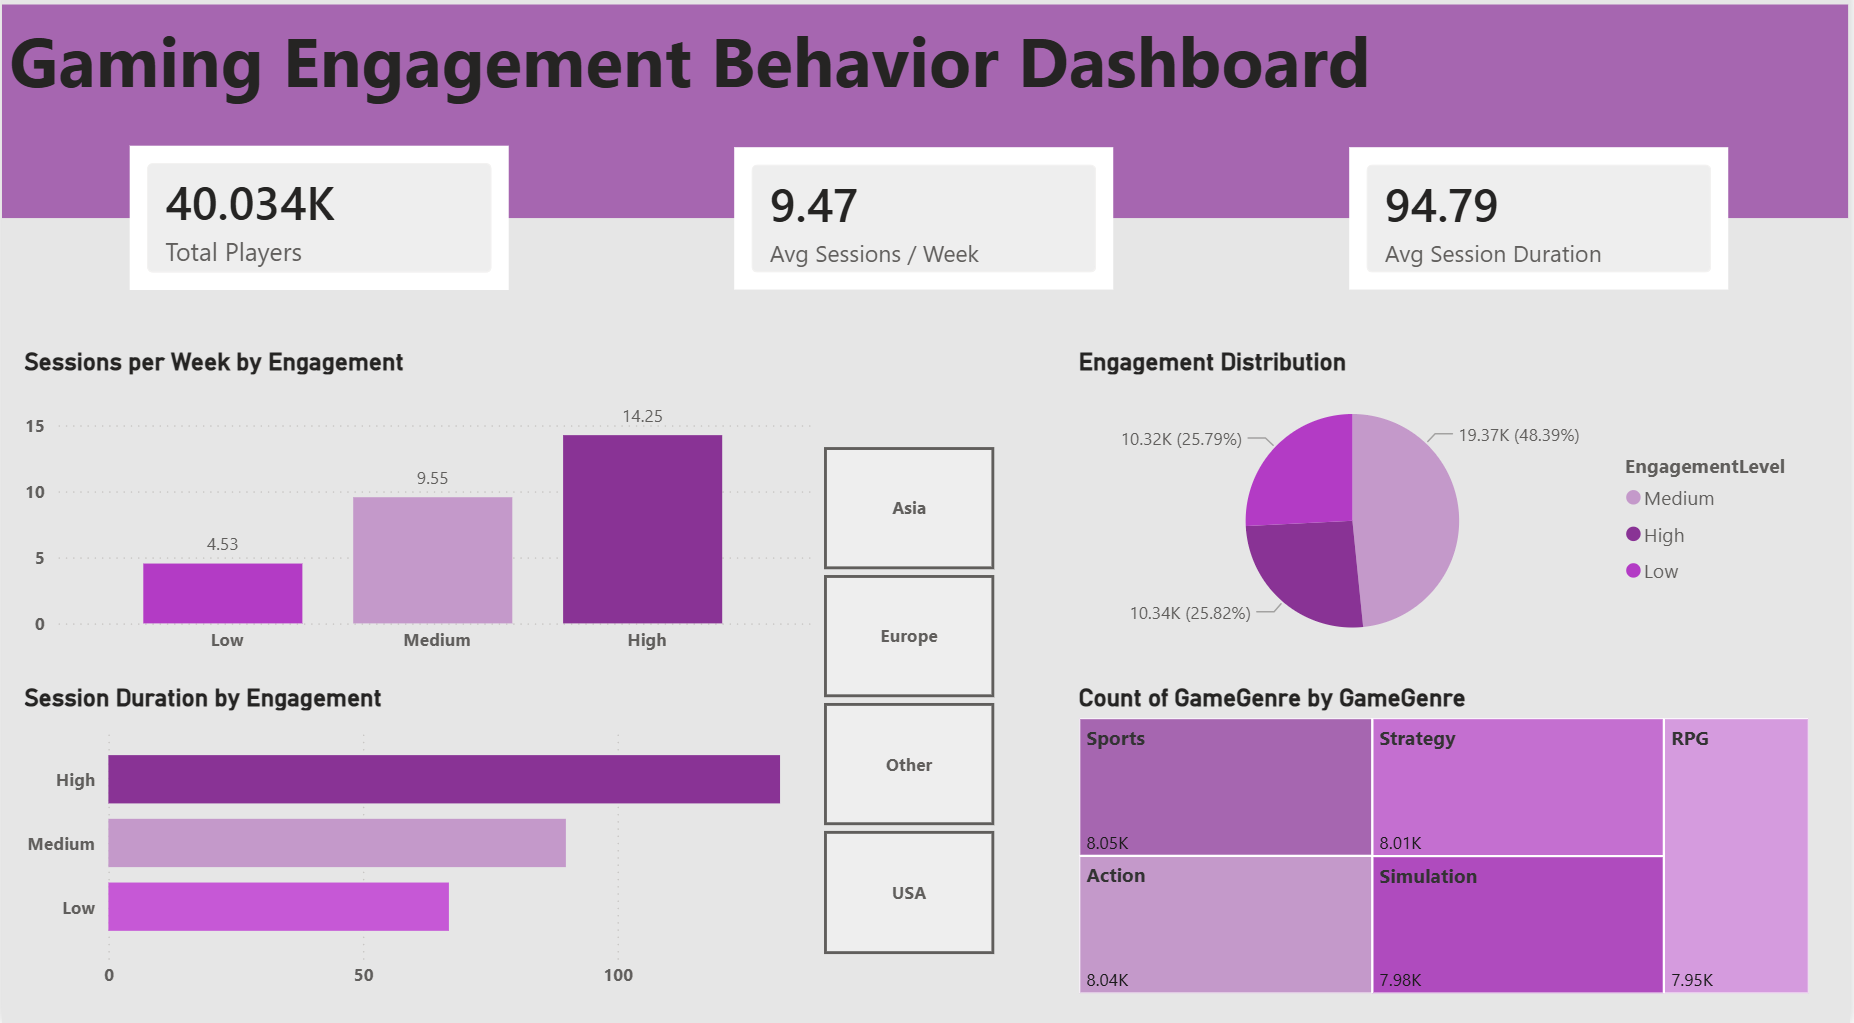

This screenshot's page, from the dashboard's own definition file:
{"tool":"powerbi","page":{"name":"Page 1","canvas":[1280,720],"ordinal":0},"visuals":[{"type":"textbox","box":[0,14,1279.6,147.7],"z":0},{"type":"cardVisual","fields":{"Data":["CountNonNull(cleaned_gaming_data.Age)"]},"box":[82.8,105.7,273.7,110.8],"z":1000},{"type":"cardVisual","fields":{"Data":["Avg(cleaned_gaming_data.SessionsPerWeek)"]},"box":[501.6,107,273.7,109.5],"z":2000},{"type":"cardVisual","fields":{"Data":["Avg(cleaned_gaming_data.AvgSessionDurationMinutes)"]},"box":[928.2,107,273.7,109.5],"z":3000},{"type":"clusteredColumnChart","title":"Sessions per Week by Engagement","fields":{"Category":["cleaned_gaming_data.EngagementLevel"],"Y":["Avg(cleaned_gaming_data.SessionsPerWeek)"]},"box":[10.2,250.8,557.7,221.5],"z":4000},{"type":"pieChart","title":"Engagement Distribution","fields":{"Category":["cleaned_gaming_data.EngagementLevel"],"Y":["CountNonNull(cleaned_gaming_data.EngagementLevel)"]},"box":[741,250.8,515.7,221.5],"z":5000},{"type":"barChart","title":"Session Duration by Engagement","fields":{"Category":["cleaned_gaming_data.EngagementLevel"],"Y":["Avg(cleaned_gaming_data.AvgSessionDurationMinutes)"]},"box":[10.2,483.8,572.9,220.3],"z":6000},{"type":"treemap","fields":{"Group":["cleaned_gaming_data.GameGenre"],"Values":["CountNonNull(cleaned_gaming_data.GameGenre)"]},"box":[741,483.8,515.7,220.3],"z":7000},{"type":"slicer","fields":{"Values":["cleaned_gaming_data.Location"]},"box":[543.7,313.2,168.1,365.4],"z":8000}]}

Visuals, with their boxes in screenshot pixels (x1, y1, x2, y2), scaled from the page's 1280x720 canvas onto the 1854x1023 screenshot:
textbox: [0, 20, 1853, 230]
cardVisual - CountNonNull(cleaned_gaming_data.Age): [120, 150, 516, 308]
cardVisual - Avg(cleaned_gaming_data.SessionsPerWeek): [727, 152, 1123, 308]
cardVisual - Avg(cleaned_gaming_data.AvgSessionDurationMinutes): [1344, 152, 1741, 308]
"Sessions per Week by Engagement" clusteredColumnChart: [15, 356, 823, 671]
"Engagement Distribution" pieChart: [1073, 356, 1820, 671]
"Session Duration by Engagement" barChart: [15, 687, 845, 1000]
treemap - cleaned_gaming_data.GameGenre x CountNonNull(cleaned_gaming_data.GameGenre): [1073, 687, 1820, 1000]
slicer - cleaned_gaming_data.Location: [788, 445, 1031, 964]
